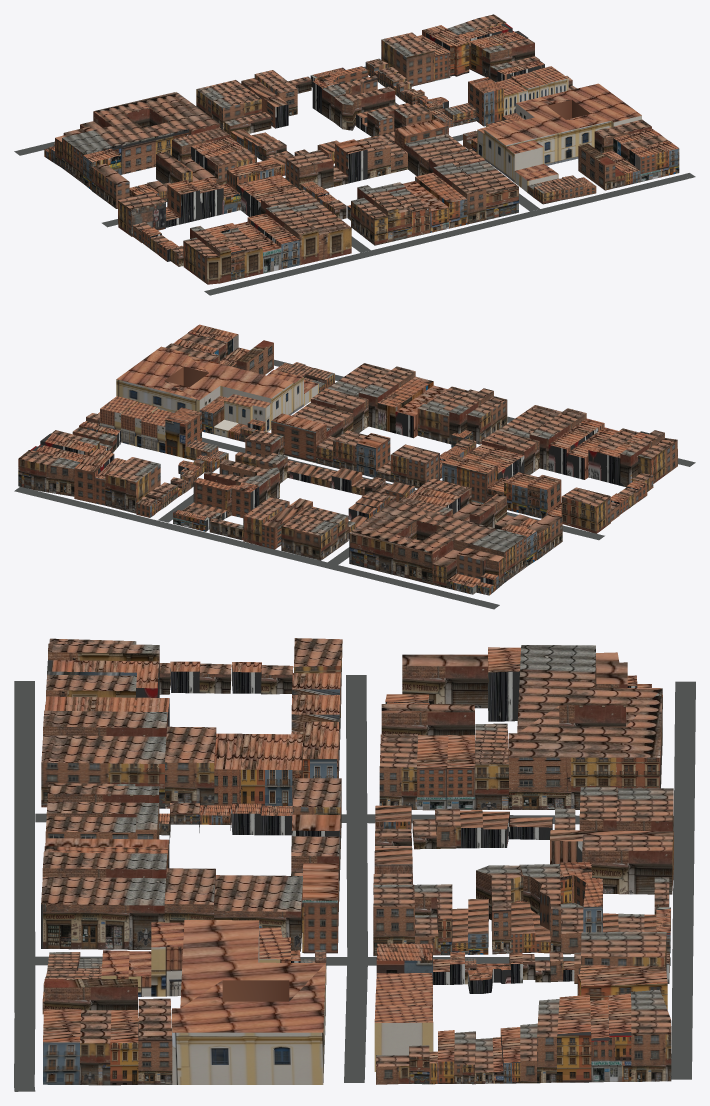
File: Entorno_github.fbx
The picture shows the model from 3 angles, top to bottom: view 1: azimuth 30°, elevation 25°; view 2: azimuth 150°, elevation 25°; view 3: azimuth 270°, elevation 25°; orthographic projection. The views are drawn at different scales.
Visible parts, largest first — view 1: map_2.osm_buildings.173, map_2.osm_buildings.115, map_7.osm_roads_tertiary, map_2.osm_buildings.121, map_2.osm_buildings.181, map_2.osm_buildings.041, map_2.osm_buildings.178, map_2.osm_buildings.099, map_2.osm_buildings.019, map_2.osm_buildings.023, map_2.osm_buildings.042, map_2.osm_buildings.182 (+59 smaller); view 2: map_2.osm_buildings.173, map_2.osm_buildings.115, map_7.osm_roads_tertiary, map_2.osm_buildings.121, map_2.osm_buildings.082, map_2.osm_buildings.142, map_2.osm_buildings.178, map_2.osm_buildings.026, map_2.osm_buildings.049, map_2.osm_buildings.019, map_2.osm_buildings.189, map_2.osm_buildings.003 (+54 smaller); view 3: map_2.osm_buildings.115, map_2.osm_buildings.173, map_7.osm_roads_tertiary, map_7.osm_roads_residential, map_2.osm_buildings.041, map_2.osm_buildings.181, map_2.osm_buildings.190, map_2.osm_buildings.140, map_2.osm_buildings.050, map_2.osm_buildings.108, map_2.osm_buildings.204, map_2.osm_buildings.082 (+81 smaller).
Boxes of the visible parts, x1,y1,x2,y2 form: map_2.osm_buildings.173: [62, 92, 219, 183]; map_2.osm_buildings.115: [484, 83, 641, 175]; map_7.osm_roads_tertiary: [14, 66, 695, 295]; map_2.osm_buildings.121: [381, 32, 434, 86]; map_2.osm_buildings.181: [290, 201, 351, 260]; map_2.osm_buildings.041: [457, 160, 518, 219]; map_2.osm_buildings.178: [118, 191, 165, 236]; map_2.osm_buildings.099: [629, 140, 679, 182]; map_2.osm_buildings.019: [285, 150, 333, 190]; map_2.osm_buildings.023: [334, 86, 395, 130]; map_2.osm_buildings.042: [433, 163, 486, 224]; map_2.osm_buildings.182: [265, 204, 318, 265]; map_2.osm_buildings.173: [349, 500, 526, 584]; map_2.osm_buildings.115: [116, 346, 293, 420]; map_7.osm_roads_tertiary: [14, 359, 695, 609]; map_2.osm_buildings.121: [105, 457, 160, 513]; map_2.osm_buildings.082: [18, 450, 80, 496]; map_2.osm_buildings.142: [281, 514, 337, 560]; map_2.osm_buildings.178: [561, 487, 610, 533]; map_2.osm_buildings.026: [193, 477, 259, 517]; map_2.osm_buildings.049: [271, 413, 326, 462]; map_2.osm_buildings.019: [390, 444, 439, 488]; map_2.osm_buildings.189: [442, 455, 497, 503]; map_2.osm_buildings.003: [165, 407, 201, 458]; map_2.osm_buildings.115: [172, 920, 325, 1084]; map_2.osm_buildings.173: [508, 645, 662, 809]; map_7.osm_roads_tertiary: [14, 681, 695, 1091]; map_7.osm_roads_residential: [35, 675, 684, 1082]; map_2.osm_buildings.041: [41, 877, 165, 949]; map_2.osm_buildings.181: [41, 735, 166, 808]; map_2.osm_buildings.190: [214, 733, 303, 808]; map_2.osm_buildings.140: [582, 835, 673, 894]; map_2.osm_buildings.050: [214, 875, 302, 951]; map_2.osm_buildings.108: [402, 654, 487, 708]; map_2.osm_buildings.204: [165, 726, 216, 808]; map_2.osm_buildings.082: [631, 989, 671, 1081].
Size of the model in its own units: 333 by 22.3 by 230.
